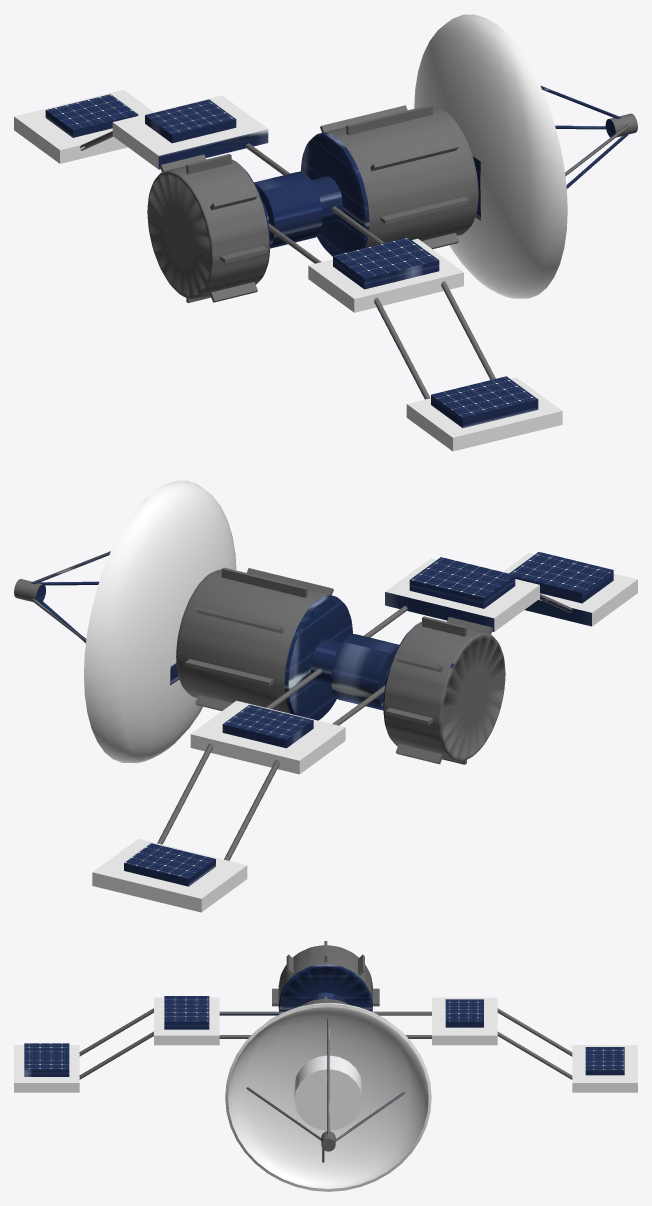
File: satelite.obj
The picture shows the model from 3 angles, top to bottom: view 1: azimuth 30°, elevation 25°; view 2: azimuth 150°, elevation 25°; view 3: azimuth 270°, elevation 25°; orthographic projection. The views are drawn at different scales.
Visible parts, largest first — view 1: Cube.002; view 2: Cube.002; view 3: Cube.002.
Boxes of the visible parts, <box> form: Cube.002: <box>14,14,637,451</box>; Cube.002: <box>14,480,637,912</box>; Cube.002: <box>14,941,637,1191</box>.
Size of the model in its own units: 10.39 by 5.76 by 17.33.
Materials: 3 (3 with a texture image).
